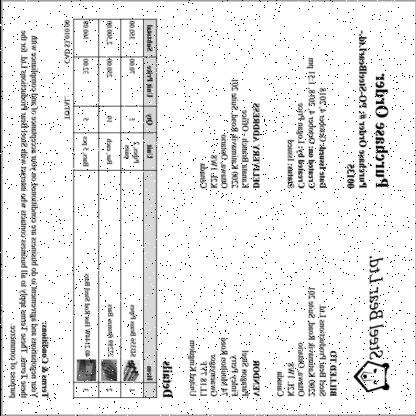Paragraph: (5, 28, 50, 402), (342, 29, 390, 190), (273, 285, 339, 400), (196, 78, 262, 192), (283, 56, 329, 192), (184, 334, 262, 400), (61, 18, 71, 122), (158, 359, 174, 400)
Table: (73, 20, 156, 398)
